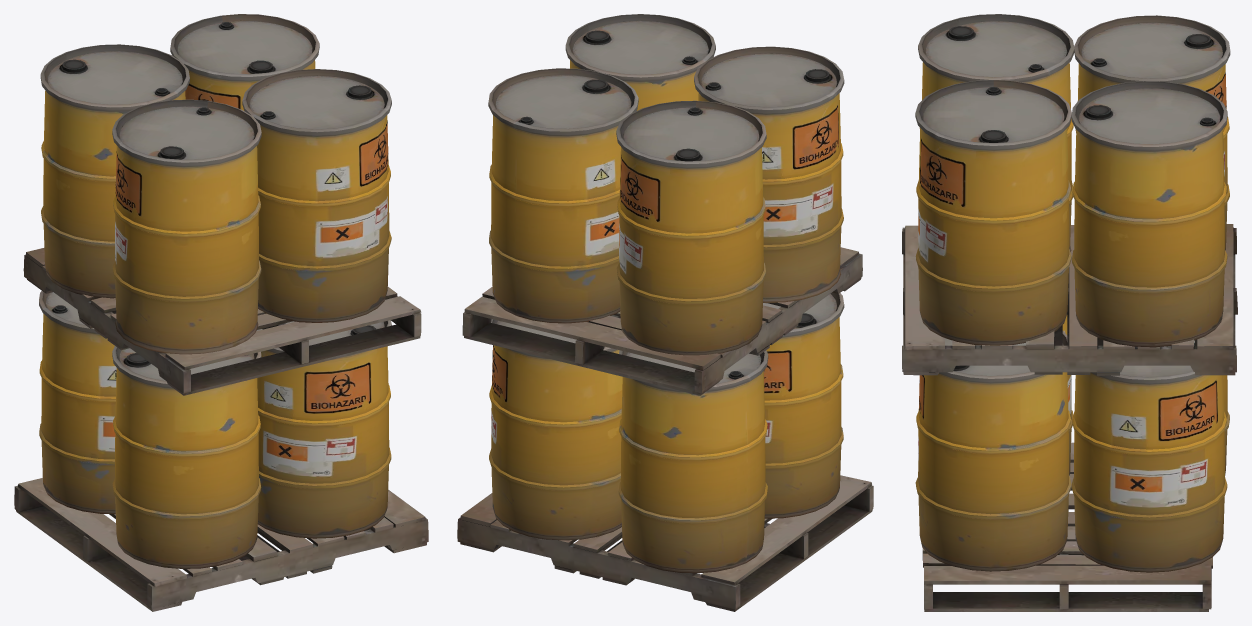
3 renders of one model, left to right at view 1: azimuth 30°, elevation 25°; view 2: azimuth 150°, elevation 25°; view 3: azimuth 270°, elevation 25°, orthographic. The views are drawn at different scales.
Parts seen in each view (by area): view 1: body0_model0_lod0_mesh0, body0_model0_lod0_mesh1; view 2: body0_model0_lod0_mesh0, body0_model0_lod0_mesh1; view 3: body0_model0_lod0_mesh0, body0_model0_lod0_mesh1.
Part boxes in pixels (x1,y1,x2,y2): body0_model0_lod0_mesh0: (39,14,391,568); body0_model0_lod0_mesh1: (14,248,428,611); body0_model0_lod0_mesh0: (488,14,844,573); body0_model0_lod0_mesh1: (457,247,873,611); body0_model0_lod0_mesh0: (915,14,1230,572); body0_model0_lod0_mesh1: (902,224,1237,611).
Bounding box in the file's own units: 74.84 × 113 × 74.84.
2 materials, 2 textured.
